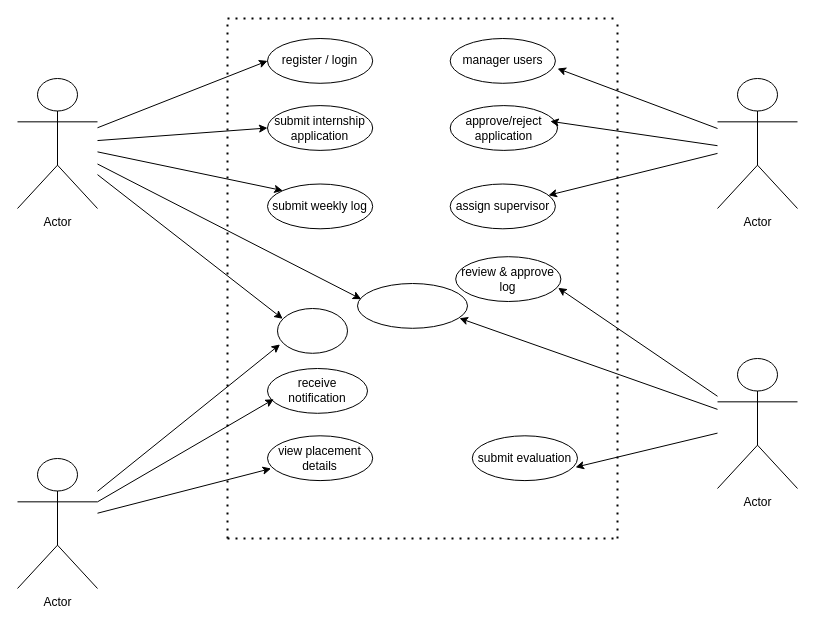
The diagram is 815 pixels wide and 626 high, and some of its shapes have lost their labels. Each missing label, with the centre of its shape:
"view evaluation results" goes at (312,330).
"view log history" goes at (412,305).
